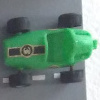verde: (3, 15, 96, 86)
